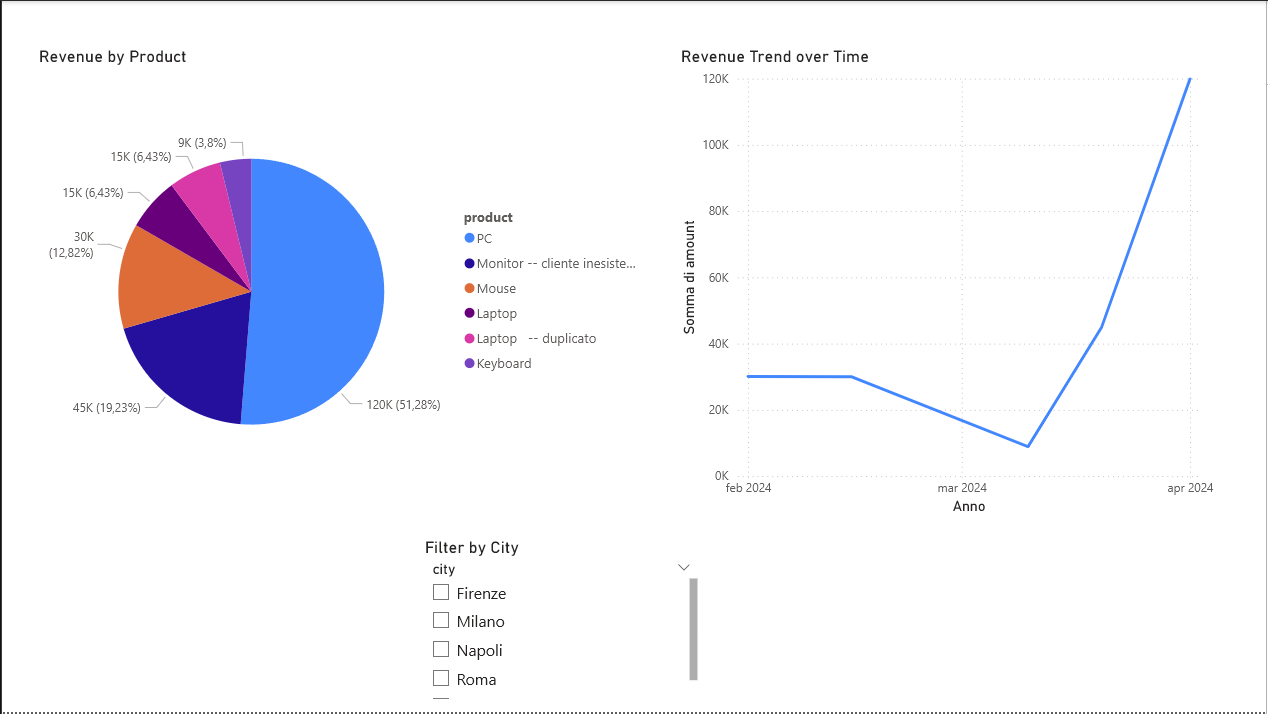

Layout of this report page (visuals, bound fields, positions):
{"tool":"powerbi","page":{"name":"Marketing Campaings","canvas":[1280,720],"ordinal":1},"visuals":[{"type":"pieChart","title":"Revenue by Product","fields":{"Category":["transformed_orders.product"],"Y":["Sum(transformed_orders.amount)"]},"box":[32.1,45.8,625.1,478.6],"z":0},{"type":"lineChart","title":"Revenue Trend over Time","fields":{"Category":["transformed_orders.order_date.Variazione.Gerarchia data.Anno","transformed_orders.order_date.Variazione.Gerarchia data.Trimestre","transformed_orders.order_date.Variazione.Gerarchia data.Mese","transformed_orders.order_date.Variazione.Gerarchia data.Giorno"],"Y":["Sum(transformed_orders.amount)"]},"box":[682.4,45.8,549.6,478.6],"z":1},{"type":"slicer","title":"Filter by City","fields":{"Values":["source_customers.city"]},"box":[423.6,542.7,286.2,169.4],"z":2}]}

Visuals, with their boxes in screenshot pixels (x1, y1, x2, y2), scaled from the page's 1280x720 canvas onto the 1268x714 screenshot:
"Revenue by Product" pieChart: x1=32, y1=45, x2=651, y2=520
"Revenue Trend over Time" lineChart: x1=676, y1=45, x2=1220, y2=520
"Filter by City" slicer: x1=420, y1=538, x2=703, y2=706
